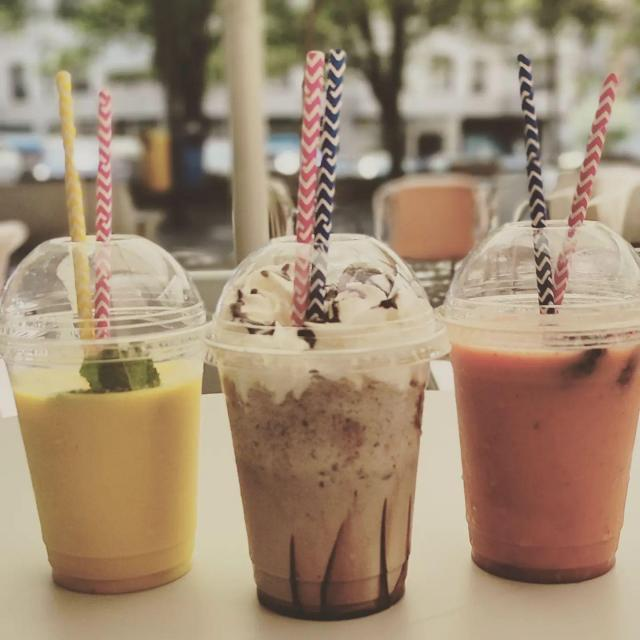cup-disposable: (208, 224, 448, 624), (3, 227, 205, 596), (448, 214, 640, 584)
